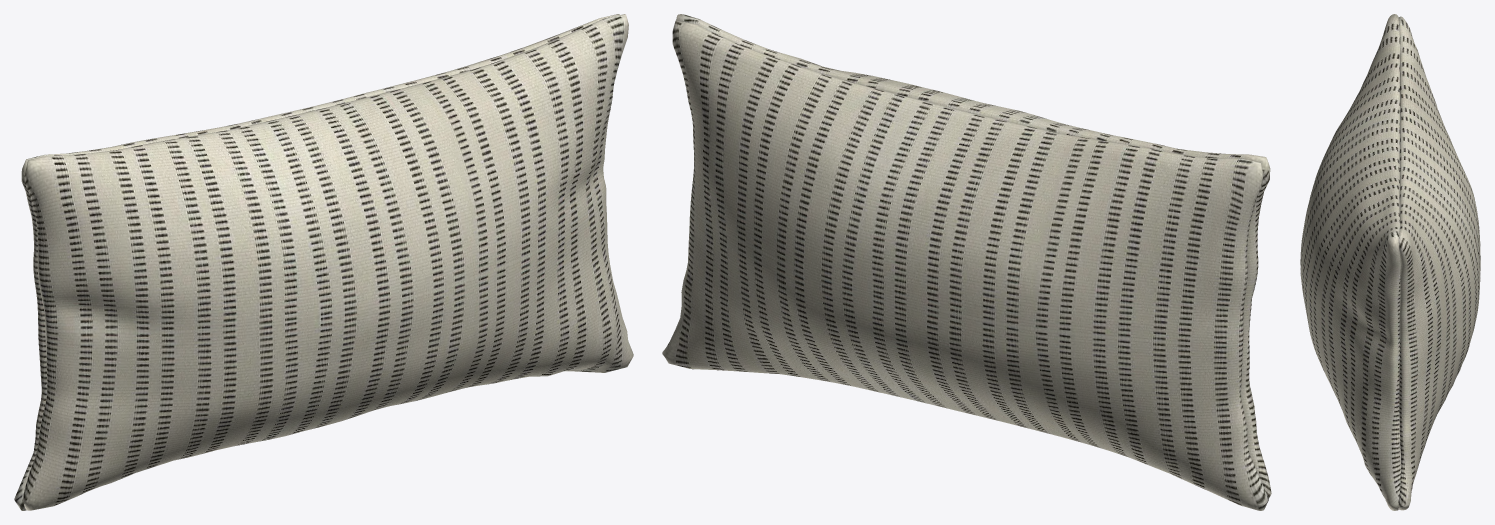
The model's file is B074VLPC13.glb.
The picture shows the model from 3 angles, left to right: view 1: azimuth 30°, elevation 25°; view 2: azimuth 150°, elevation 25°; view 3: azimuth 270°, elevation 25°; orthographic projection. The views are drawn at different scales.
Visible parts, largest first — view 1: RootNode; view 2: RootNode; view 3: RootNode.
Part boxes in pixels (x1=…): RootNode: x1=14, y1=14, x2=633, y2=510; RootNode: x1=662, y1=14, x2=1271, y2=510; RootNode: x1=1300, y1=14, x2=1480, y2=510.
Bounding box in the file's own units: 0.6403 × 0.3526 × 0.2104.
1 material, 1 textured.
